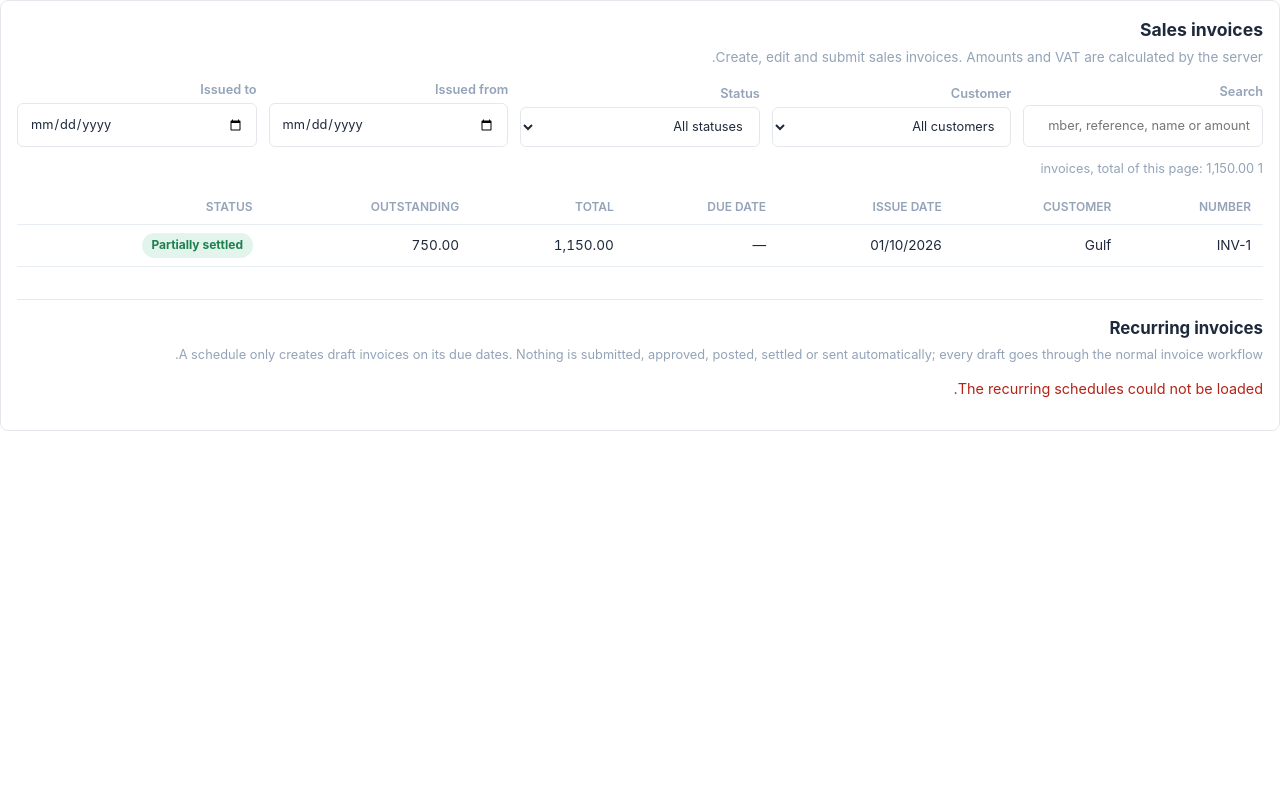
Test: Invoice side: Record collection / Record payment › disables the action and explains why: missing obligation.settlement.create
The width and height of the screenshot is (1280, 800).
What coordinates should you click on to do the following:
click the text "INV-1"
I would click on:
 (1193, 245)
Its box is top-left (1123, 225), bottom-right (1263, 266).
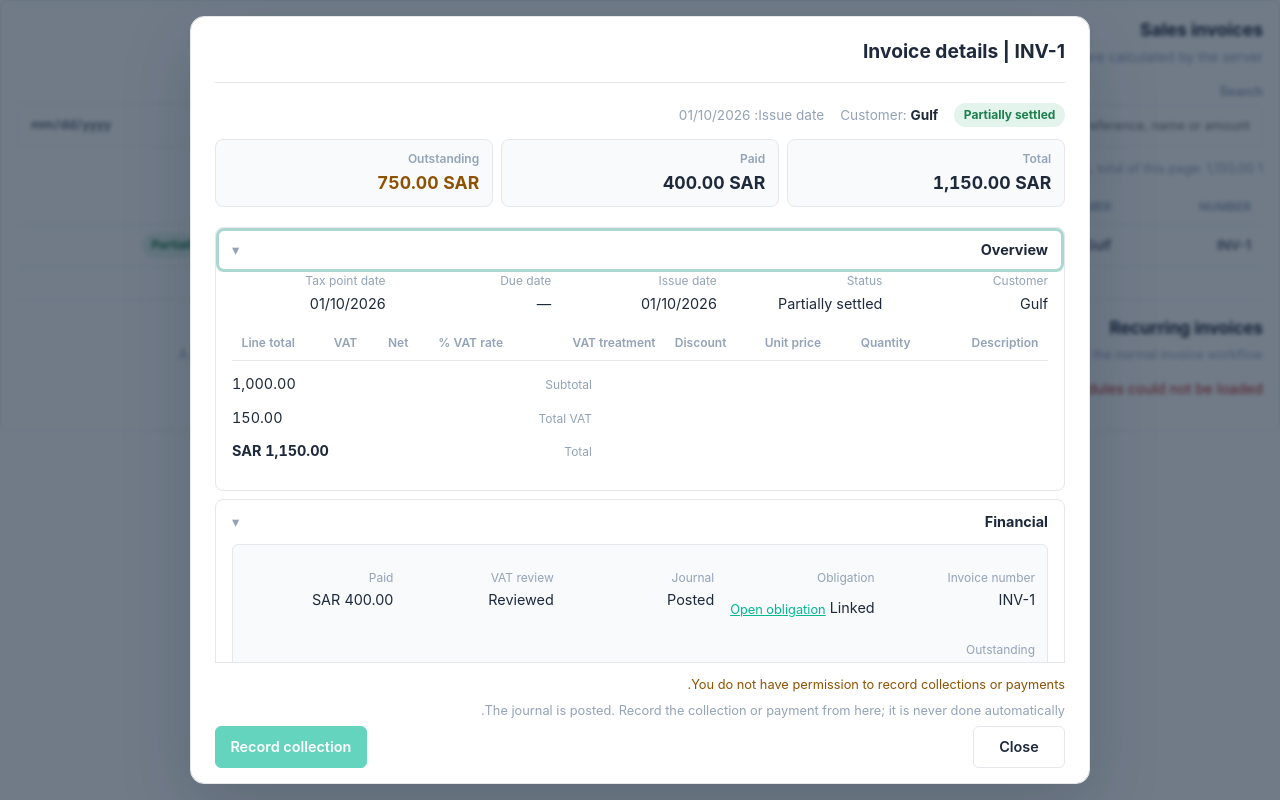
Now the text with test id "settle-note" shows "do not have permission to record", box top-left (688, 677), bottom-right (1065, 692)
Now the button "Record collection" is disabled, box top-left (215, 726), bottom-right (367, 767)
